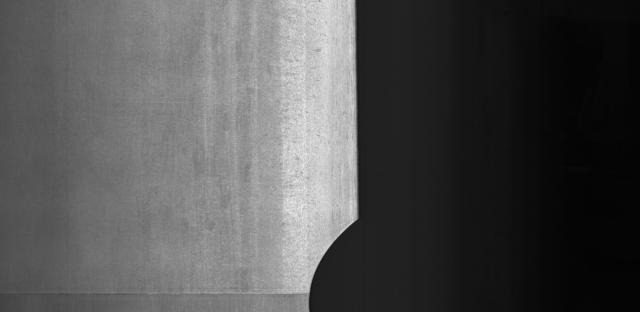crescent_gap: (298, 214, 379, 310)
welding_line: (0, 276, 317, 298)
